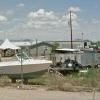Boat: (1, 38, 53, 88)
